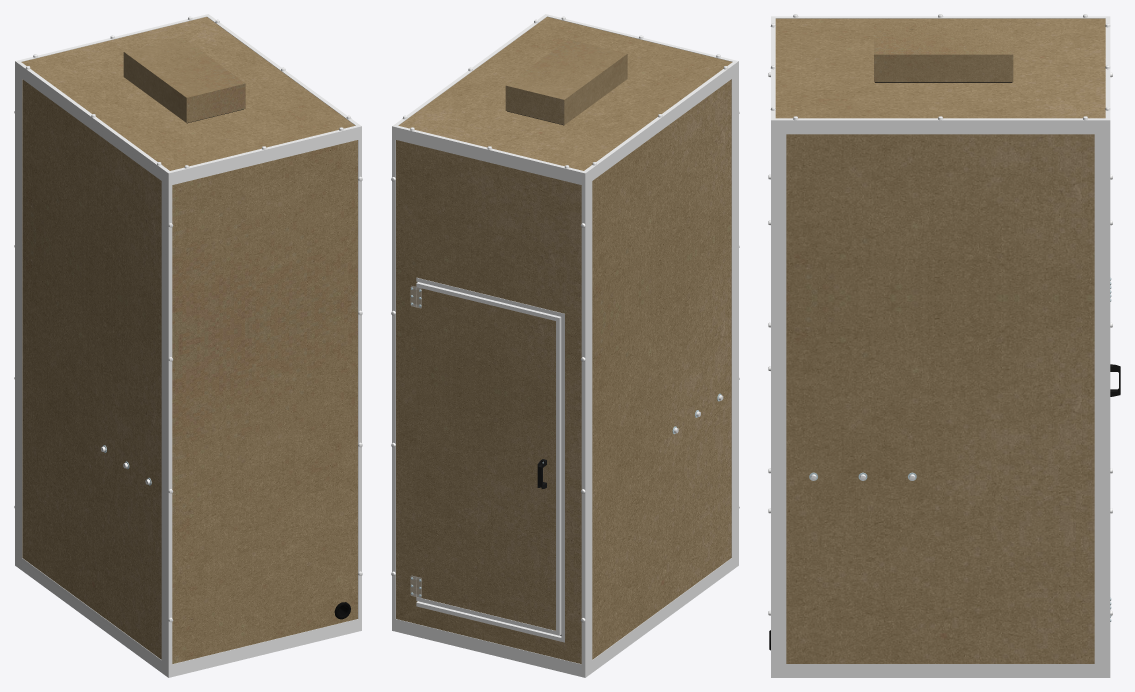
The model's file is danbocchi_tall-v6stl_m2-lowply_joint_mobile.fbx.
3 renders of one model, left to right at view 1: azimuth 30°, elevation 25°; view 2: azimuth 150°, elevation 25°; view 3: azimuth 270°, elevation 25°, orthographic. The views are drawn at different scales.
Visible parts, largest first — view 1: d6 RearPanel, d6 RightPanel.001, d6 RoofPanel, danbocchi6 Silenc.000, d6 FloorPanel, d6 FrontPlate; view 2: d6 RightPanel.001, d6 FrontPlate, d6 DoorPlate, d6 RoofPanel, danbocchi6 Silenc.000, d6 FloorPanel, d6 RearPanel; view 3: d6 LeftPanel.001, d6 RoofPanel, danbocchi6 Silenc.000, d6 FrontPlate, d6 RearPanel, d6 FloorPanel.
Part boxes in pixels (x1,y1,x2,y2): d6 RearPanel: (163, 135, 362, 668); d6 RightPanel.001: (20, 74, 163, 665); d6 RoofPanel: (15, 14, 361, 182); danbocchi6 Silenc.000: (123, 37, 245, 123); d6 FloorPanel: (15, 557, 361, 677); d6 FrontPlate: (14, 70, 19, 559); d6 RightPanel.001: (590, 74, 733, 665); d6 FrontPlate: (391, 135, 590, 668); d6 DoorPlate: (416, 282, 561, 635); d6 RoofPanel: (392, 14, 738, 182); danbocchi6 Silenc.000: (505, 39, 627, 125); d6 FloorPanel: (392, 557, 738, 677); d6 RearPanel: (734, 70, 739, 559); d6 LeftPanel.001: (782, 130, 1099, 668); d6 RoofPanel: (770, 14, 1110, 130); danbocchi6 Silenc.000: (874, 22, 1013, 82); d6 FrontPlate: (1099, 72, 1112, 668); d6 RearPanel: (768, 72, 781, 668); d6 FloorPanel: (771, 668, 1110, 677).
Bounding box in the file's own units: 80.82 × 206 × 112.
